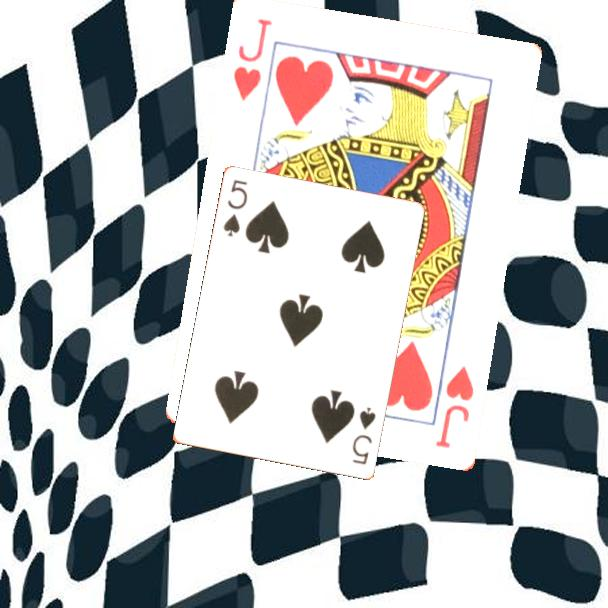h11: (230, 16, 276, 104), (432, 363, 477, 452)
s05: (220, 177, 251, 240), (349, 404, 379, 468)
